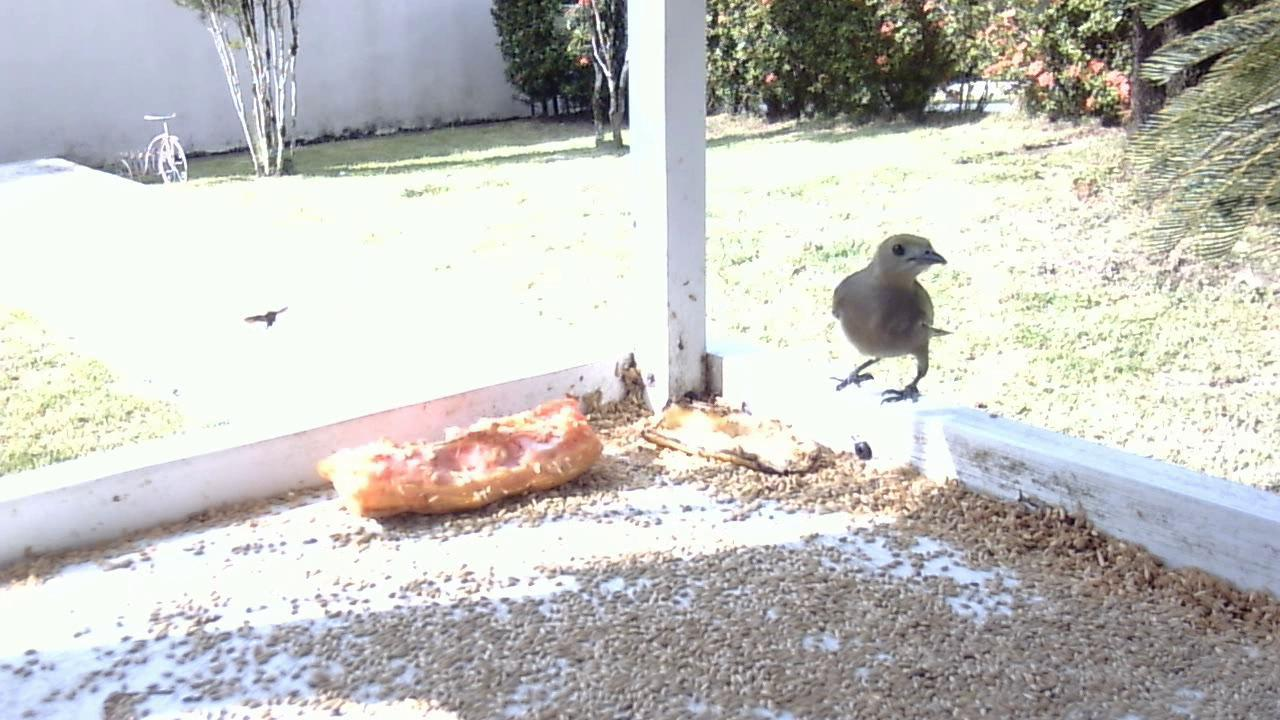sanhaco_do_coqueiro: (822, 230, 953, 409)
